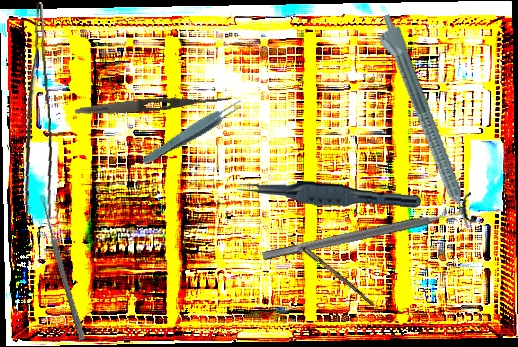Dressing Forceps: (74, 91, 234, 118)
Fixation Ring: (259, 191, 478, 272)
Handpiece: (370, 11, 476, 235)
Surgical Spoon: (275, 225, 377, 307), (37, 194, 87, 341)
Tissue Forceps: (11, 2, 58, 221), (139, 96, 247, 169), (236, 177, 422, 210)
